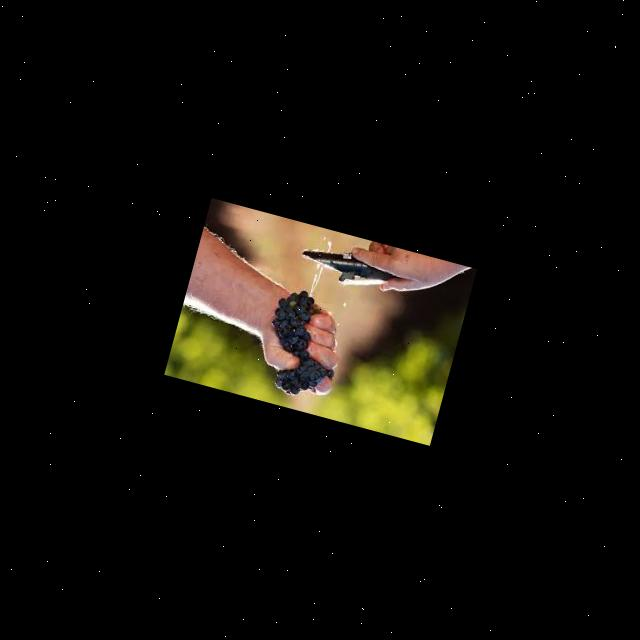grape: (254, 283, 352, 404)
